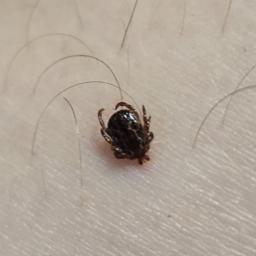Dermacentor variabilis: (98, 104, 155, 167)
